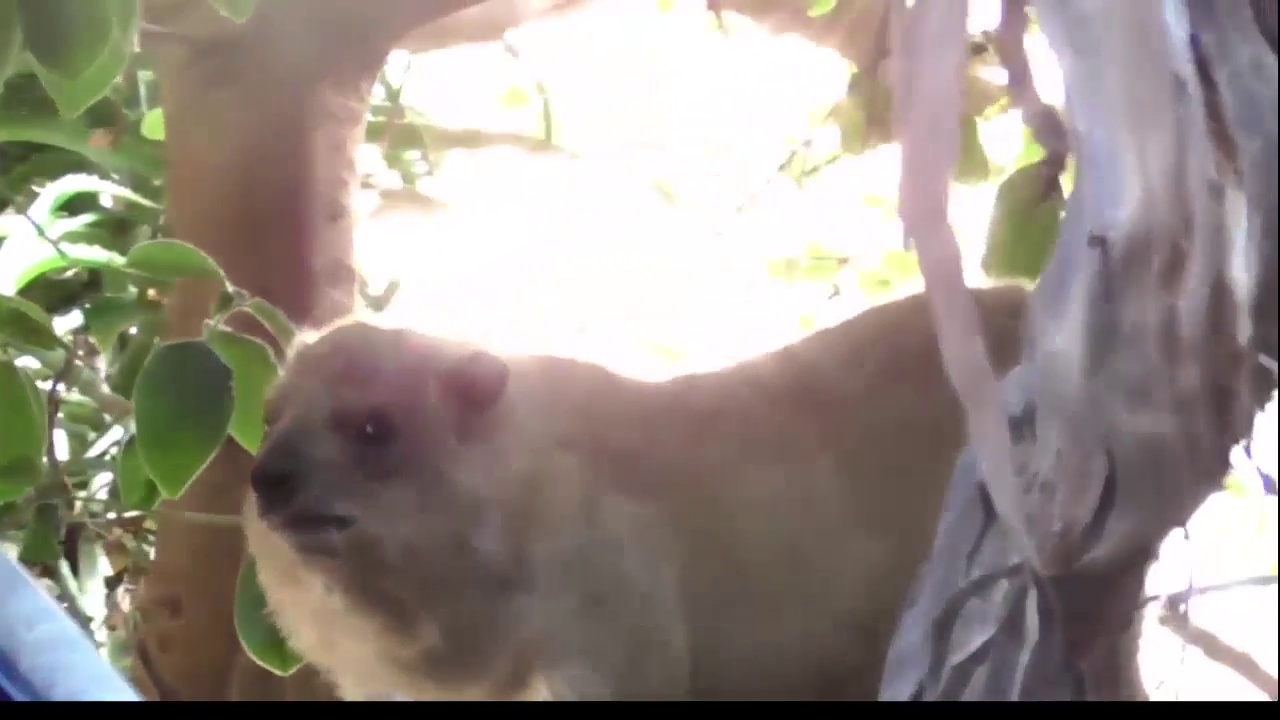Rock Hyrex: (247, 280, 1134, 720)
